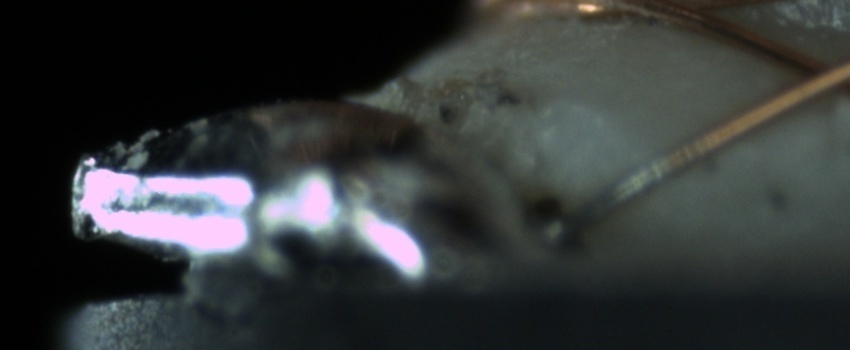CL: (770, 42, 848, 107)
TS: (547, 153, 673, 240)
